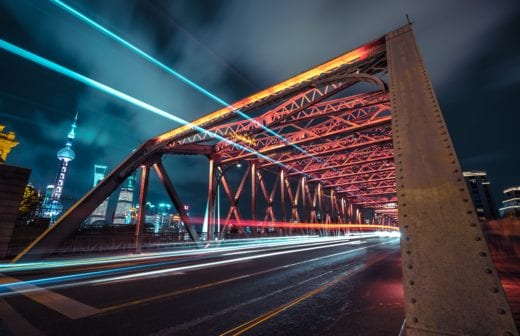bridge: (10, 22, 489, 264)
